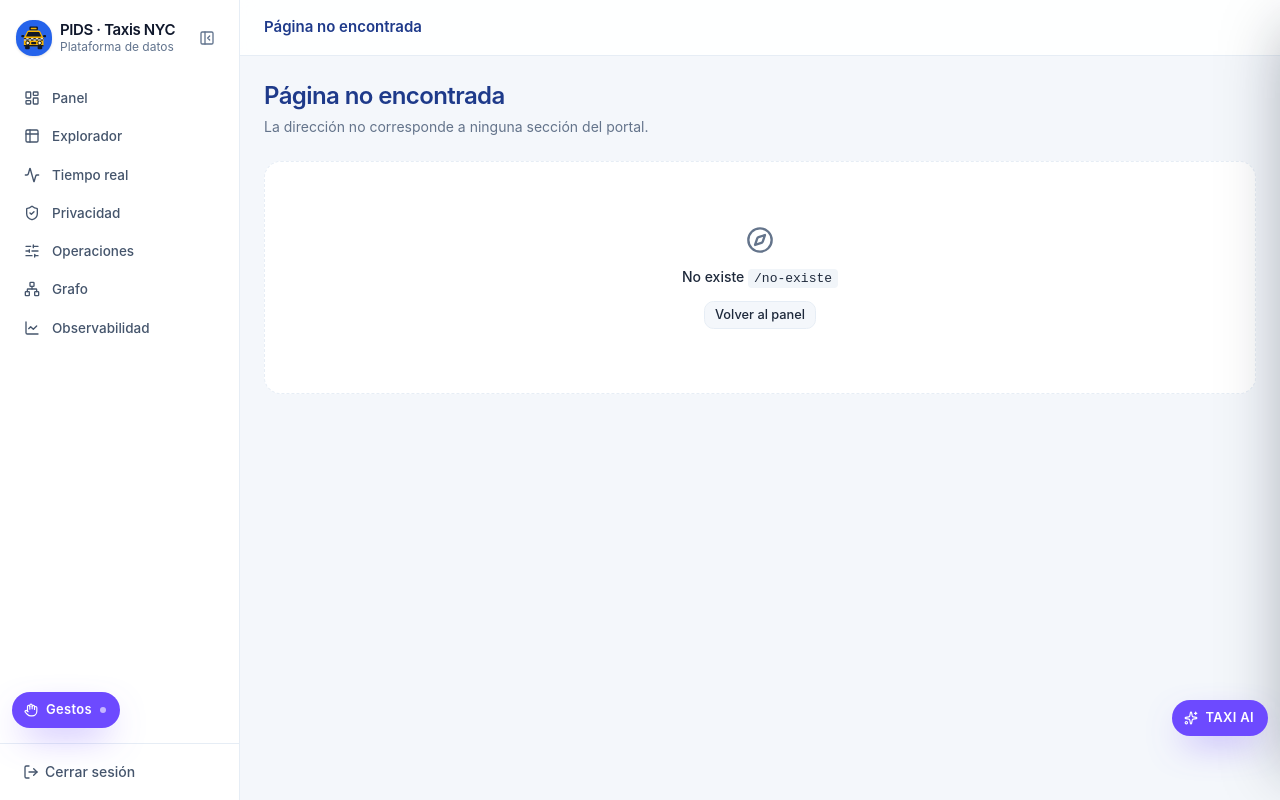
Test case: Asistente (panel TAXI AI) › un evento error del flujo se muestra como alerta en la burbuja
Click the button with aria-label "Abrir TAXI AI, el asistente de datos": (1220, 718) [1172,700,1268,736]
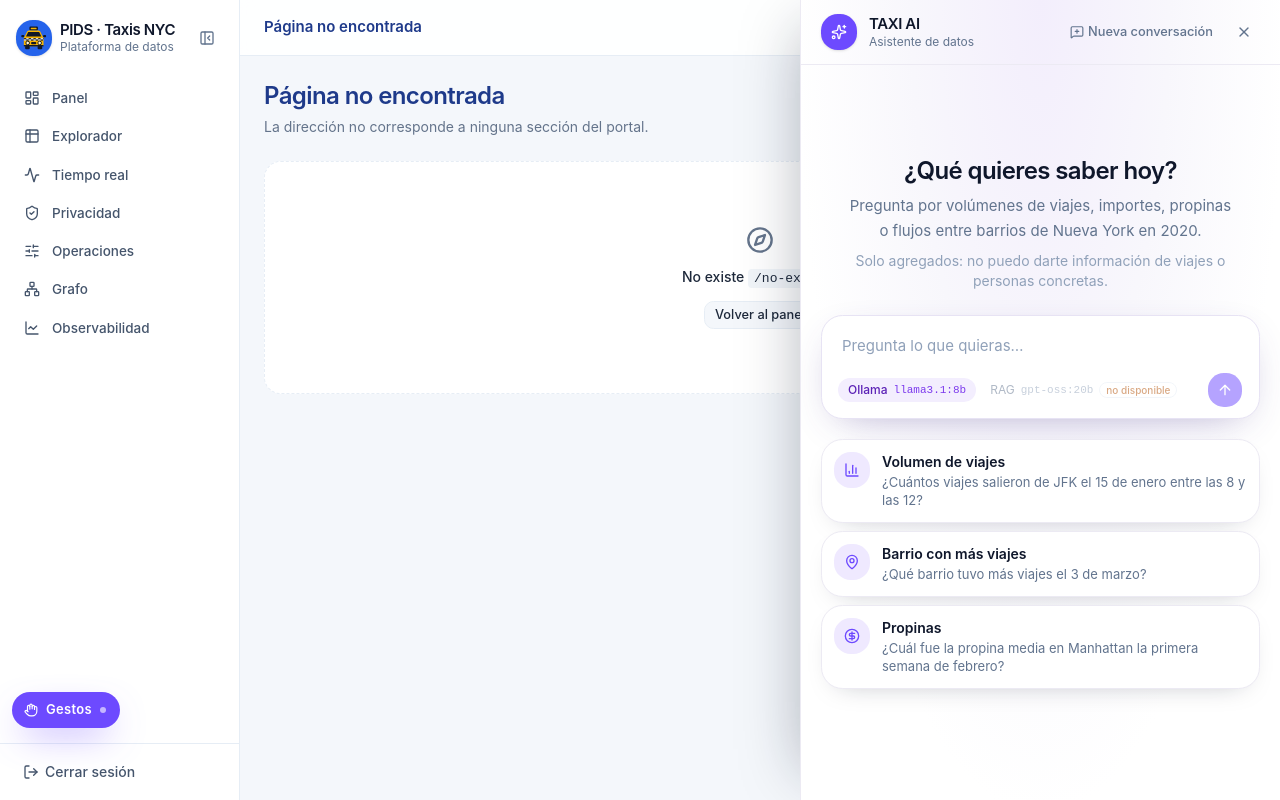
Expected: the text box named "Mensaje para el asistente" is enabled
In the text box named "Mensaje para el asistente": (1040, 348) [838,328,1243,368], type "hola"
Then press Enter
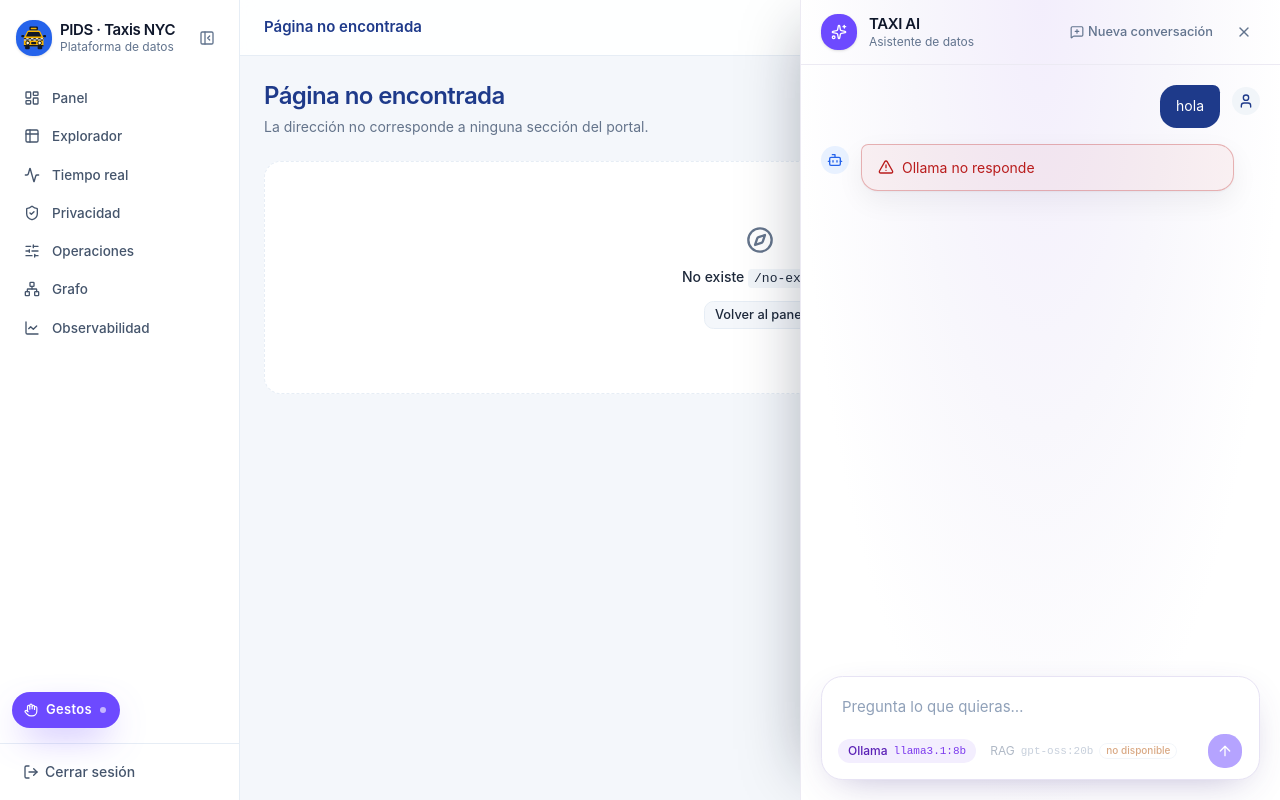
Expected: the text box named "Mensaje para el asistente" is enabled, [838,689,1243,729]
Expected: the message reads "Ollama no responde", [902,159,1035,176]
